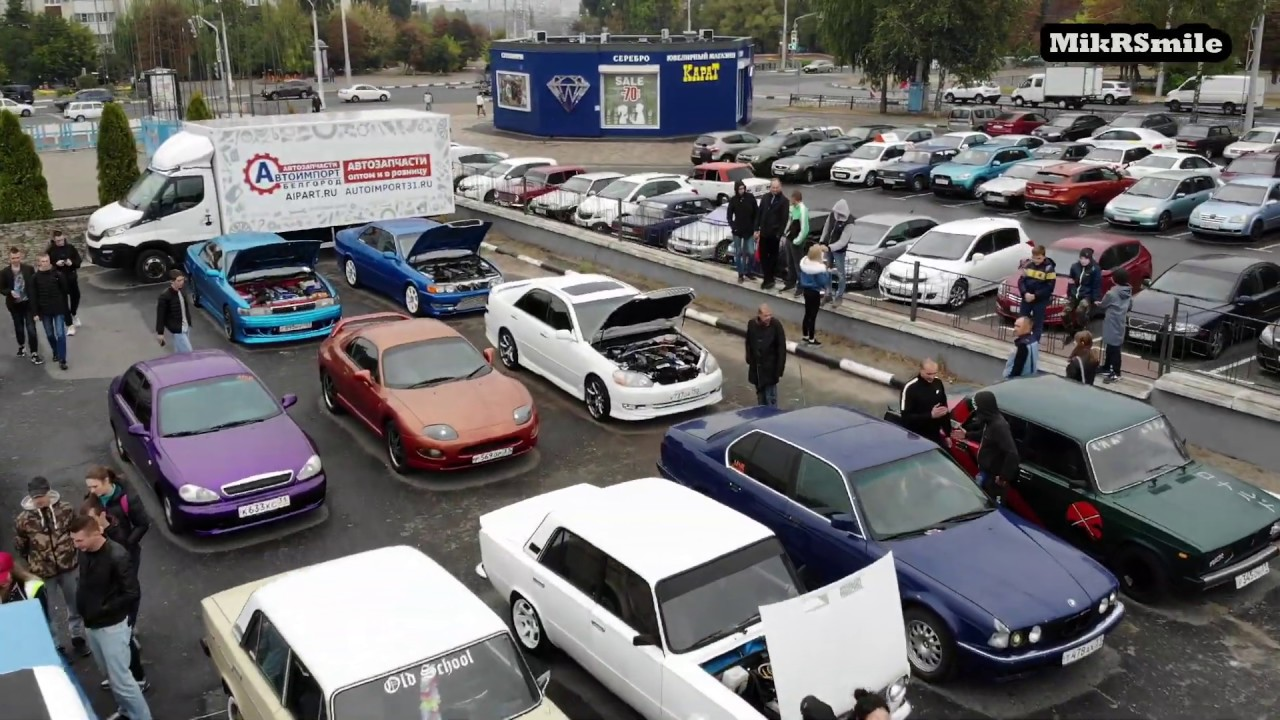Car: (658, 406, 1125, 681), (477, 478, 911, 720), (948, 375, 1280, 601), (86, 108, 455, 283), (200, 546, 569, 720), (107, 349, 328, 537), (317, 312, 540, 473), (484, 272, 724, 421), (184, 232, 343, 347), (334, 219, 503, 318), (1123, 254, 1280, 359), (996, 234, 1154, 326), (878, 217, 1034, 310), (0, 599, 98, 720), (845, 212, 940, 290), (1103, 169, 1220, 231), (573, 172, 694, 230), (1024, 163, 1133, 219), (1188, 177, 1280, 240), (930, 144, 1031, 197), (616, 192, 712, 247), (527, 171, 626, 221), (976, 158, 1067, 209), (458, 157, 557, 202), (1166, 74, 1267, 115), (771, 138, 860, 183), (737, 129, 822, 176), (877, 144, 959, 192), (830, 140, 912, 186), (667, 204, 732, 262), (496, 165, 584, 207), (1011, 67, 1103, 107), (688, 162, 770, 204), (452, 141, 509, 189), (1126, 152, 1220, 181), (690, 130, 763, 165), (1078, 127, 1177, 152), (1091, 112, 1180, 138), (1175, 122, 1236, 158), (1223, 124, 1280, 162), (1220, 147, 1280, 183), (1082, 143, 1154, 172), (1035, 113, 1106, 142), (1254, 314, 1280, 380), (986, 111, 1047, 136), (54, 88, 117, 112), (947, 106, 1003, 132), (941, 81, 1002, 104), (261, 79, 315, 101), (932, 131, 989, 151), (1033, 142, 1090, 161), (337, 84, 391, 104), (875, 127, 937, 144), (844, 124, 893, 145), (63, 101, 108, 123), (987, 135, 1047, 151), (1099, 80, 1132, 105), (0, 84, 35, 104), (0, 97, 33, 118), (802, 59, 836, 74)
